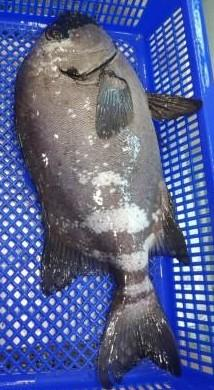fish: (15, 11, 203, 389)
